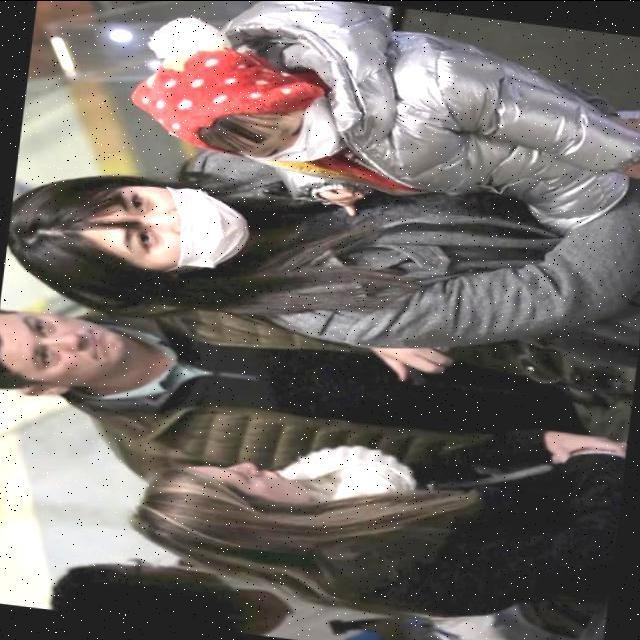mask: (185, 182, 232, 260), (290, 112, 342, 172)
no_gloves: (154, 32, 270, 138), (5, 179, 100, 281), (153, 472, 221, 568), (0, 315, 20, 400)
no_hairnet: (59, 312, 120, 396), (235, 451, 305, 501)
